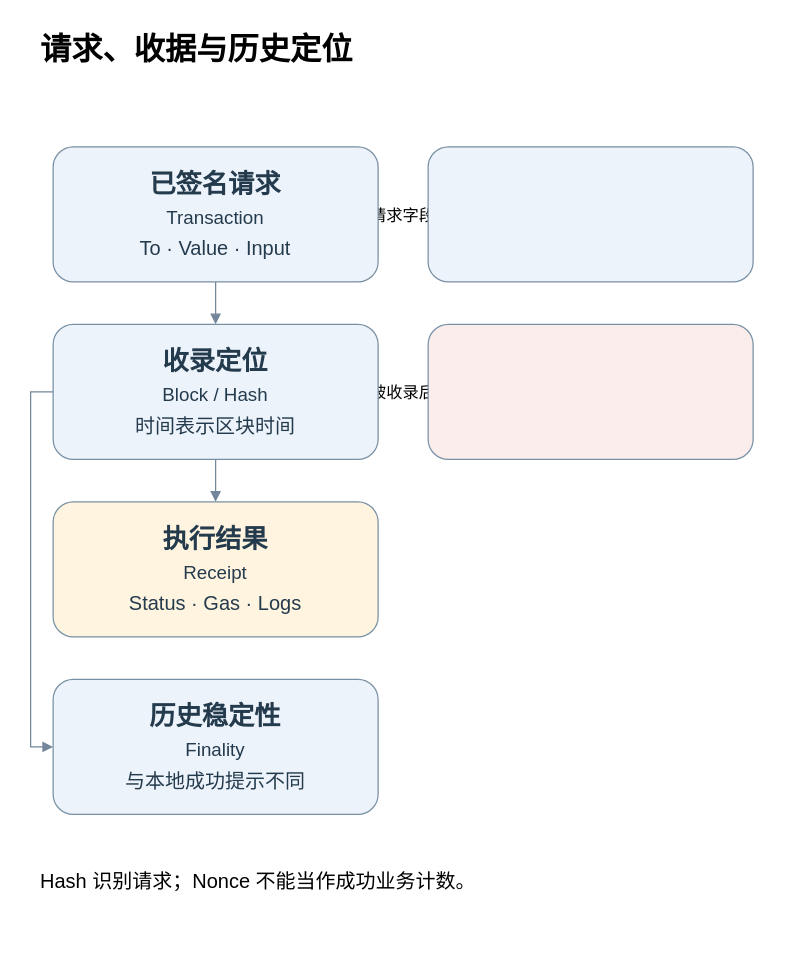
Image size: 790x969. Some labels were removed from this diagram. Here are the shapes that lost their labels. From the top down, the box of each, then its label:
(427, 146, 753, 282): 发送顺序 Sender Nonce 区别于区块内 Index
(427, 323, 753, 459): 待处理请求 Pending Request 可能无区块、无收据
